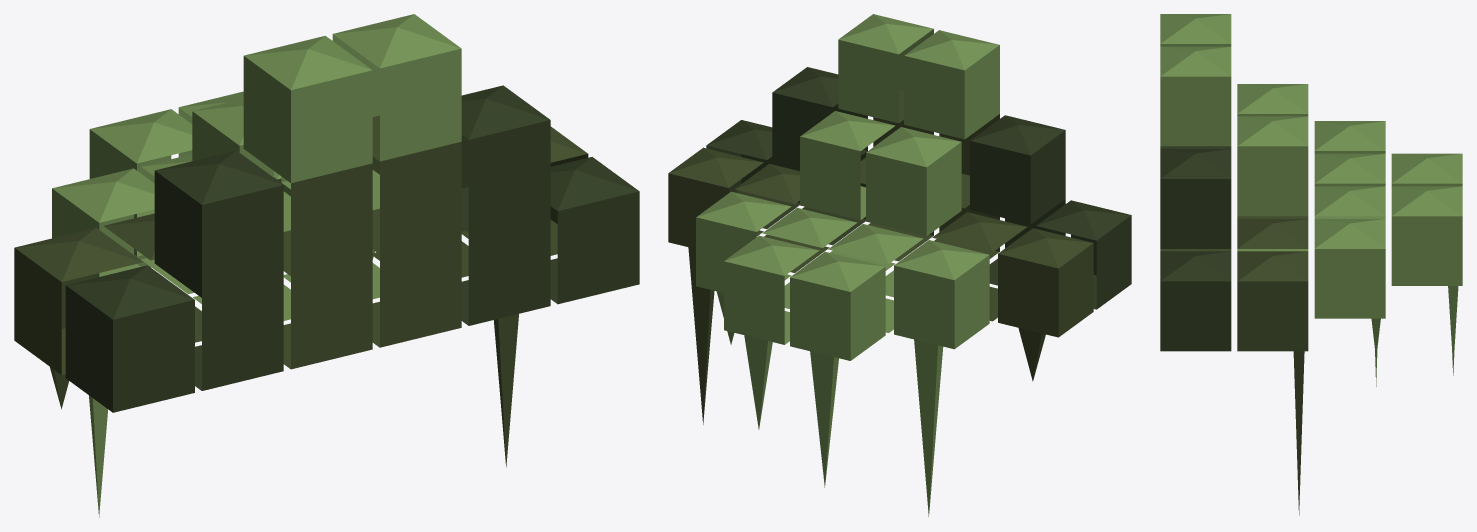
The model's file is moss_cliff_ledge.glb.
The picture shows the model from 3 angles, left to right: view 1: azimuth 30°, elevation 25°; view 2: azimuth 150°, elevation 25°; view 3: azimuth 270°, elevation 25°; orthographic projection. The views are drawn at different scales.
Parts seen in each view (by area): view 1: moss_cliff_ledge; view 2: moss_cliff_ledge; view 3: moss_cliff_ledge.
Boxes of the visible parts, box(x1,y1,x2,y2) form: moss_cliff_ledge: box(14, 14, 639, 517); moss_cliff_ledge: box(668, 14, 1131, 516); moss_cliff_ledge: box(1160, 14, 1462, 515).
Size of the model in its own units: 0.592 by 0.575 by 0.392.
Materials: 1 (1 with a texture image).
